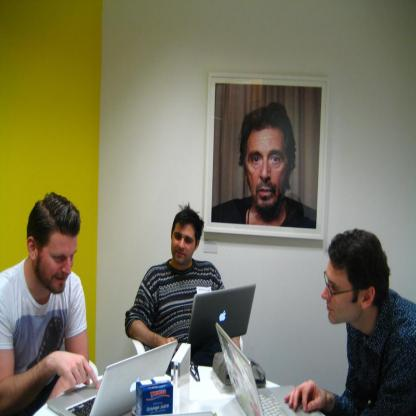board: (216, 322, 326, 416), (46, 342, 178, 415), (193, 295, 255, 353)
